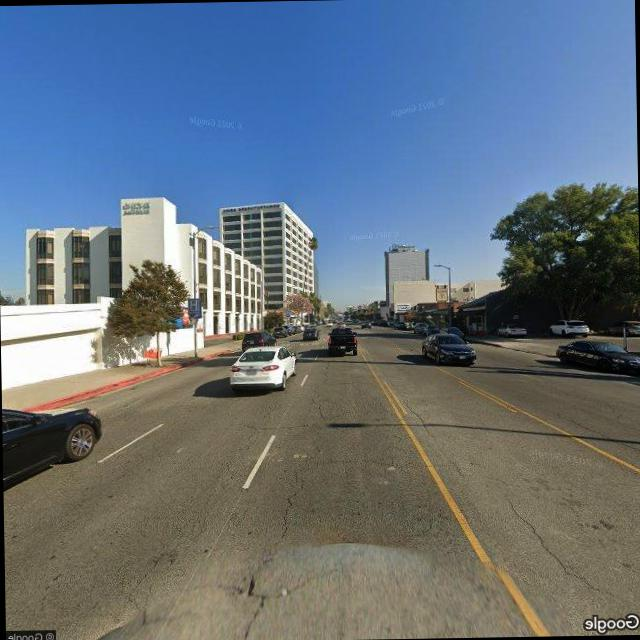crack: (505, 494, 613, 596), (277, 394, 334, 545), (406, 412, 425, 438)
